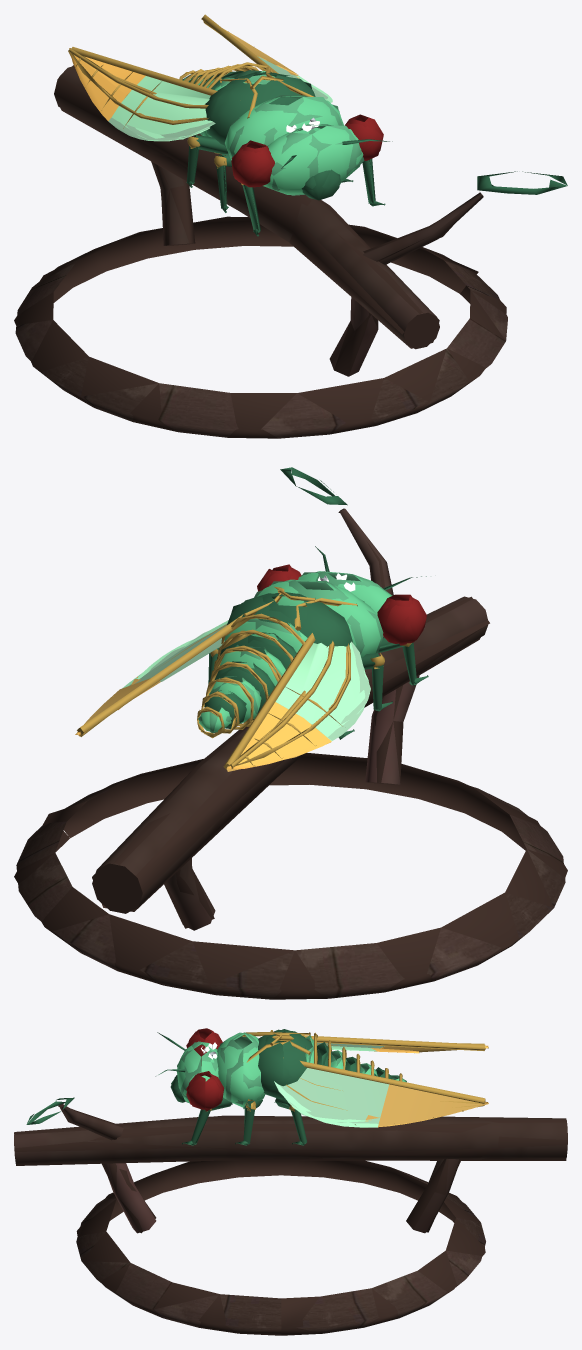
Rendered from prop_spring_autumn_cicada.gltf.
The picture shows the model from 3 angles, top to bottom: view 1: azimuth 30°, elevation 25°; view 2: azimuth 150°, elevation 25°; view 3: azimuth 270°, elevation 25°; orthographic projection. The views are drawn at different scales.
Visible parts, largest first — view 1: Near, Far; view 2: Near, Far; view 3: Near, Far.
Boxes of the visible parts, x1,y1,x2,y2 form: Near: [15, 14, 567, 438]; Far: [14, 21, 567, 438]; Near: [16, 467, 565, 999]; Far: [14, 467, 567, 999]; Near: [14, 1029, 567, 1333]; Far: [14, 1028, 567, 1335].
Size of the model in its own units: 0.1088 by 0.0642 by 0.1459.
10 materials, 2 textured.
